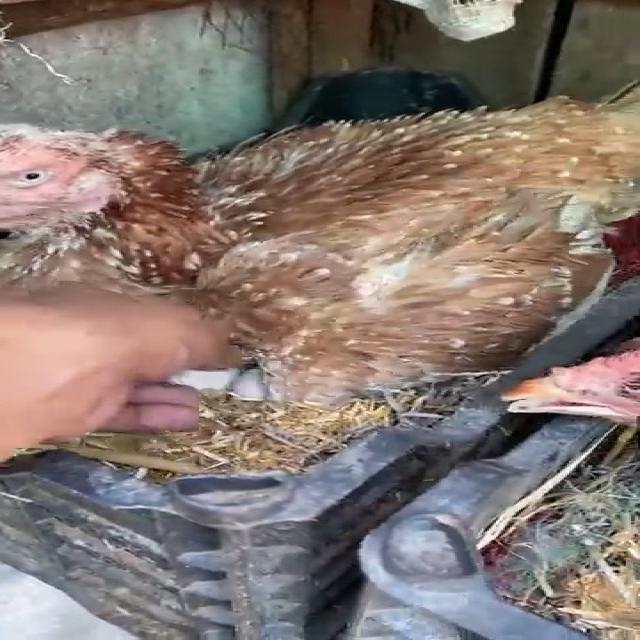bird flu: (0, 90, 640, 404)
